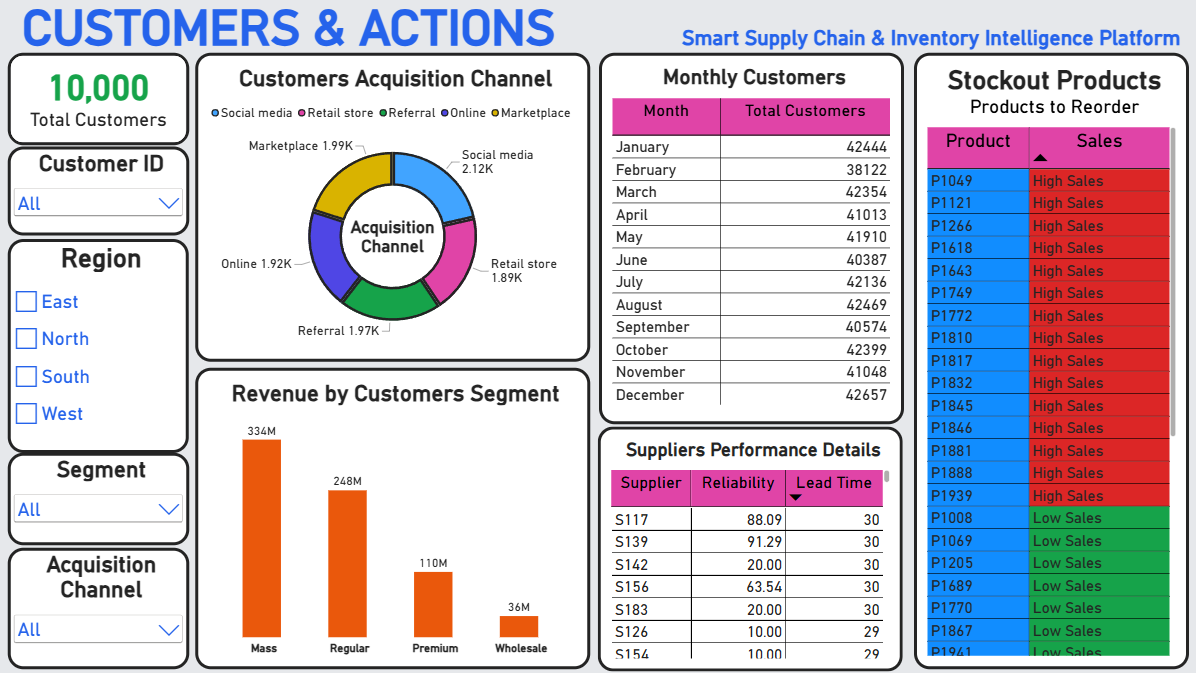

What the dashboard file says about the page in this screenshot:
{"tool":"powerbi","page":{"name":"Customers & Action","canvas":[1920,1080],"ordinal":5},"visuals":[{"type":"textbox","box":[0,0,1920.1,92.3],"z":0},{"type":"cardVisual","fields":{"Data":["Customers.Total Customers"]},"box":[14,86,290,148],"z":1000},{"type":"slicer","title":"Customer ID","fields":{"Values":["Customers.Customer_ID"]},"box":[14.5,235.3,290,142],"z":2000},{"type":"clusteredColumnChart","title":"Revenue by Customers Segment","fields":{"Category":["Customers.Customer_Segment"],"Y":["Sum(Orders.Revenue)"]},"box":[314,590,632,482],"z":3000},{"type":"slicer","title":"Acquisition Channel","fields":{"Values":["Customers.Acquisition_Channel"]},"box":[14,878,290,194],"z":4000},{"type":"slicer","title":"Segment","fields":{"Values":["Customers.Customer_Segment"]},"box":[14,726,290,148],"z":5000},{"type":"donutChart","title":"Customers Acquisition Channel","fields":{"Category":["Customers.Acquisition_Channel"],"Y":["CountNonNull(Customers.Customer_ID)"]},"box":[314,86,632,494],"z":6000},{"type":"tableEx","title":"Stockout Products","fields":{"Values":["Products.Product_ID","Products.Sales"]},"box":[1464,86,440,986],"z":7000},{"type":"tableEx","title":"Monthly Customers","fields":{"Values":["Orders.Order_Date.Variation.Date Hierarchy.Month","Orders.Customer_ID"]},"box":[960,86,488,594],"z":8000},{"type":"tableEx","title":"Suppliers Performance Details","fields":{"Values":["Suppliers.Supplier_ID","Suppliers.Reliability_Score","Suppliers.Lead_Time_Days"]},"box":[958,684,488,392],"z":9000},{"type":"slicer","title":"Region","fields":{"Values":["Customers.Region"]},"box":[14.5,383.6,289.5,342],"z":10000}]}

Visuals, with their boxes in screenshot pixels (x1, y1, x2, y2), scaled from the page's 1920x1080 canvas onto the 1196x673 screenshot:
textbox: {"x1": 0, "y1": 0, "x2": 1195, "y2": 58}
cardVisual - Customers.Total Customers: {"x1": 9, "y1": 54, "x2": 189, "y2": 146}
"Customer ID" slicer: {"x1": 9, "y1": 147, "x2": 190, "y2": 235}
"Revenue by Customers Segment" clusteredColumnChart: {"x1": 196, "y1": 368, "x2": 589, "y2": 668}
"Acquisition Channel" slicer: {"x1": 9, "y1": 547, "x2": 189, "y2": 668}
"Segment" slicer: {"x1": 9, "y1": 452, "x2": 189, "y2": 545}
"Customers Acquisition Channel" donutChart: {"x1": 196, "y1": 54, "x2": 589, "y2": 361}
"Stockout Products" tableEx: {"x1": 912, "y1": 54, "x2": 1186, "y2": 668}
"Monthly Customers" tableEx: {"x1": 598, "y1": 54, "x2": 902, "y2": 424}
"Suppliers Performance Details" tableEx: {"x1": 597, "y1": 426, "x2": 901, "y2": 671}
"Region" slicer: {"x1": 9, "y1": 239, "x2": 189, "y2": 452}
